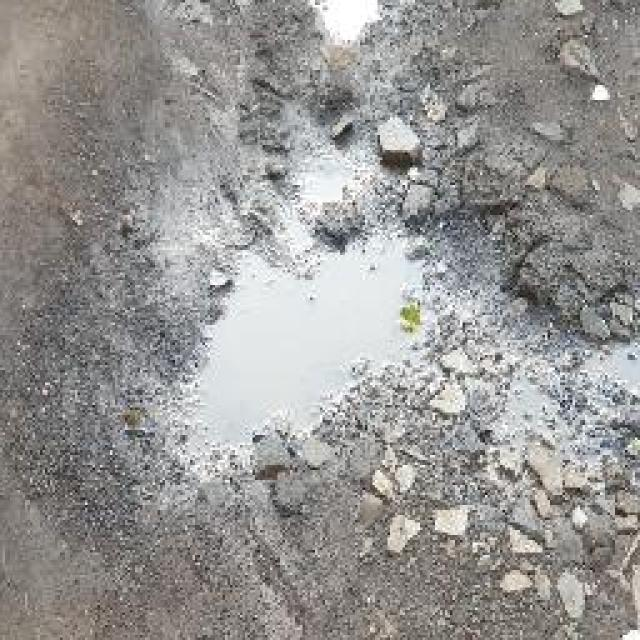puddle: (179, 255, 438, 469)
